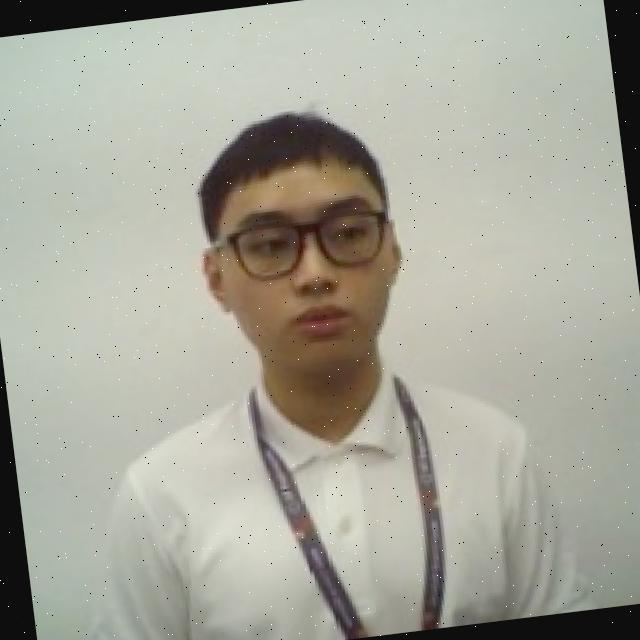no_gloves: (178, 92, 410, 266)
no_hairnet: (194, 227, 423, 390)
